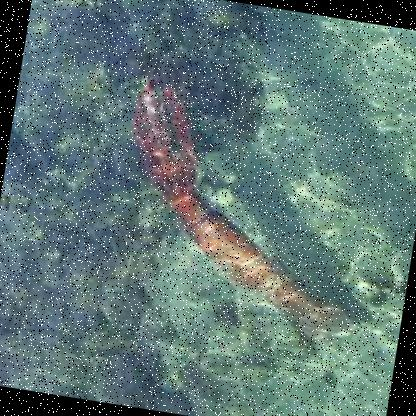colossal_squid: (73, 73, 412, 347)
